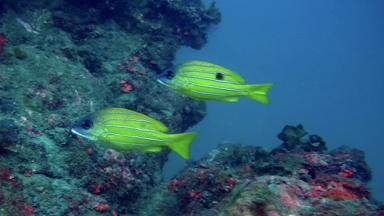Lutjanidae -Snappers-: (71, 103, 196, 166), (149, 51, 279, 108)
